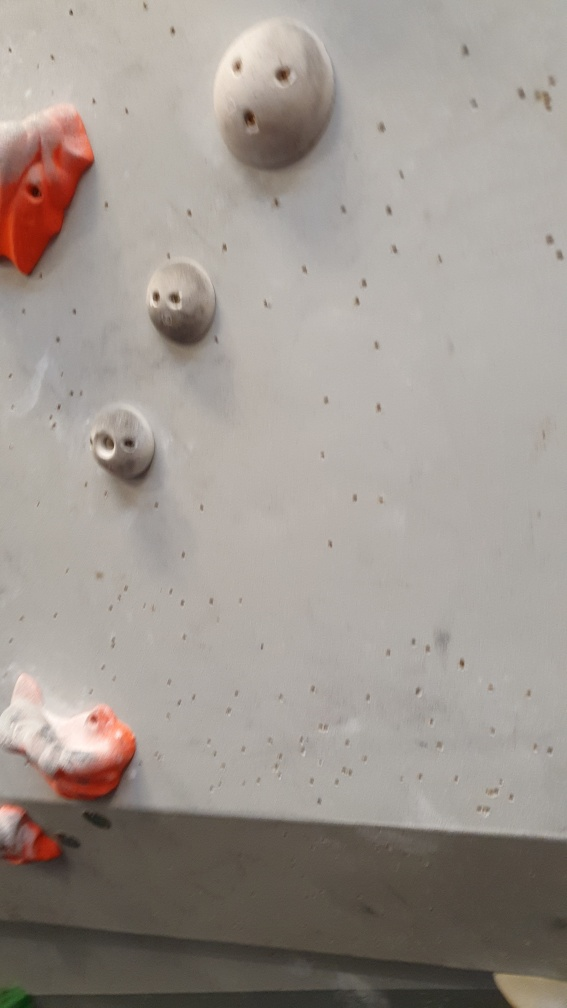Hand Start: (77, 805, 117, 832), (52, 827, 87, 853)
Jug: (1, 675, 145, 803), (1, 98, 104, 276)
Sloper: (211, 16, 340, 172), (141, 254, 227, 348), (89, 401, 160, 482)
